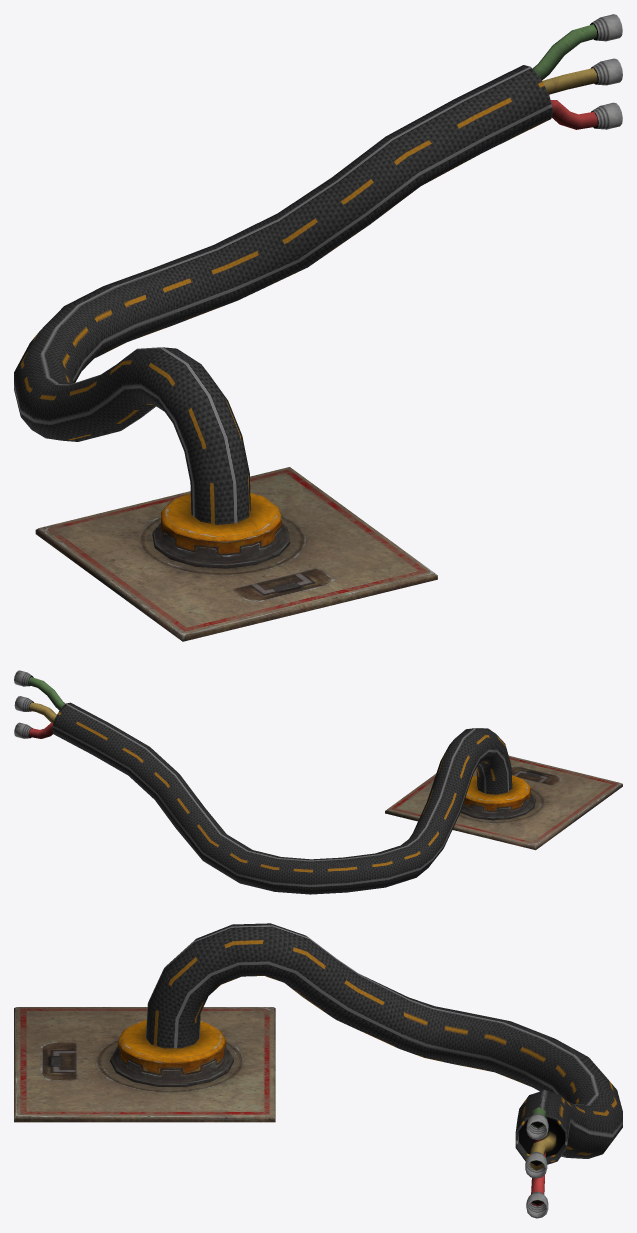
The model's file is 01_02_power_cable_bundle_static_pplant.dae.
3 views of the same model, one above another, from view 1: azimuth 30°, elevation 25°; view 2: azimuth 150°, elevation 25°; view 3: azimuth 270°, elevation 25° (orthographic). The views are drawn at different scales.
Visible parts, largest first — view 1: low; view 2: low; view 3: low.
Part boxes in pixels (<box>): low: <box>14,14,622,641</box>; low: <box>14,670,622,894</box>; low: <box>14,923,622,1218</box>.
Size of the model in its own units: 4.29 by 1.32 by 3.49.
